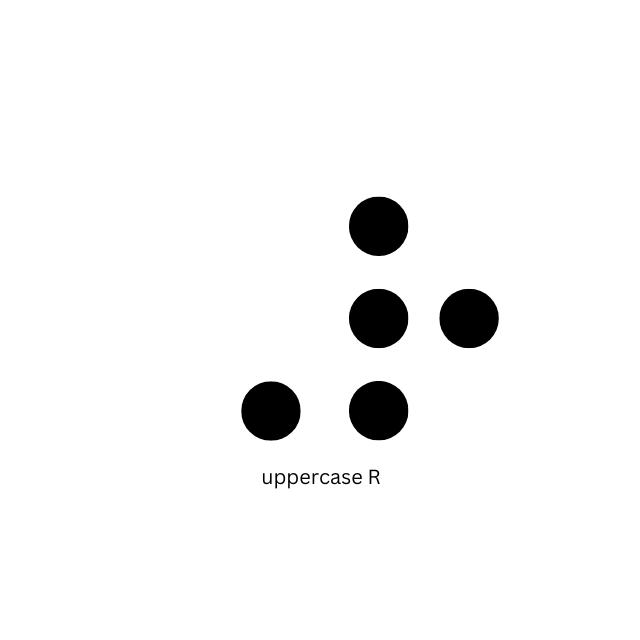capital_sign: (153, 195, 303, 443)
letter_R: (349, 195, 499, 443)
